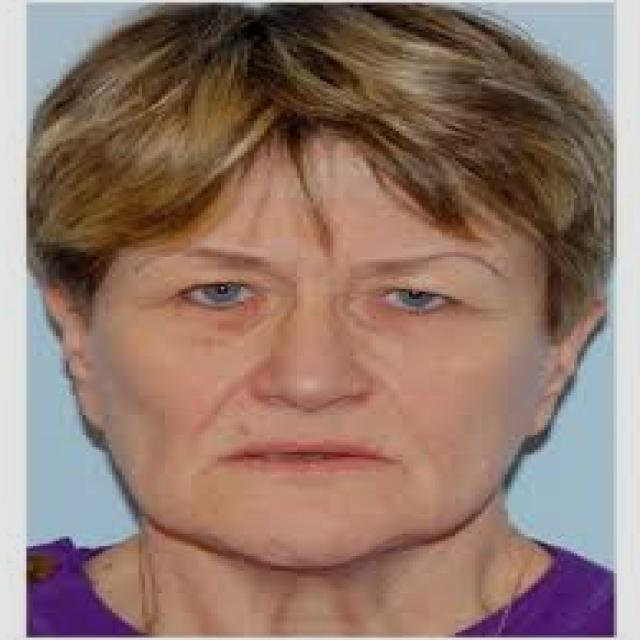normal_face: (53, 46, 594, 573)
